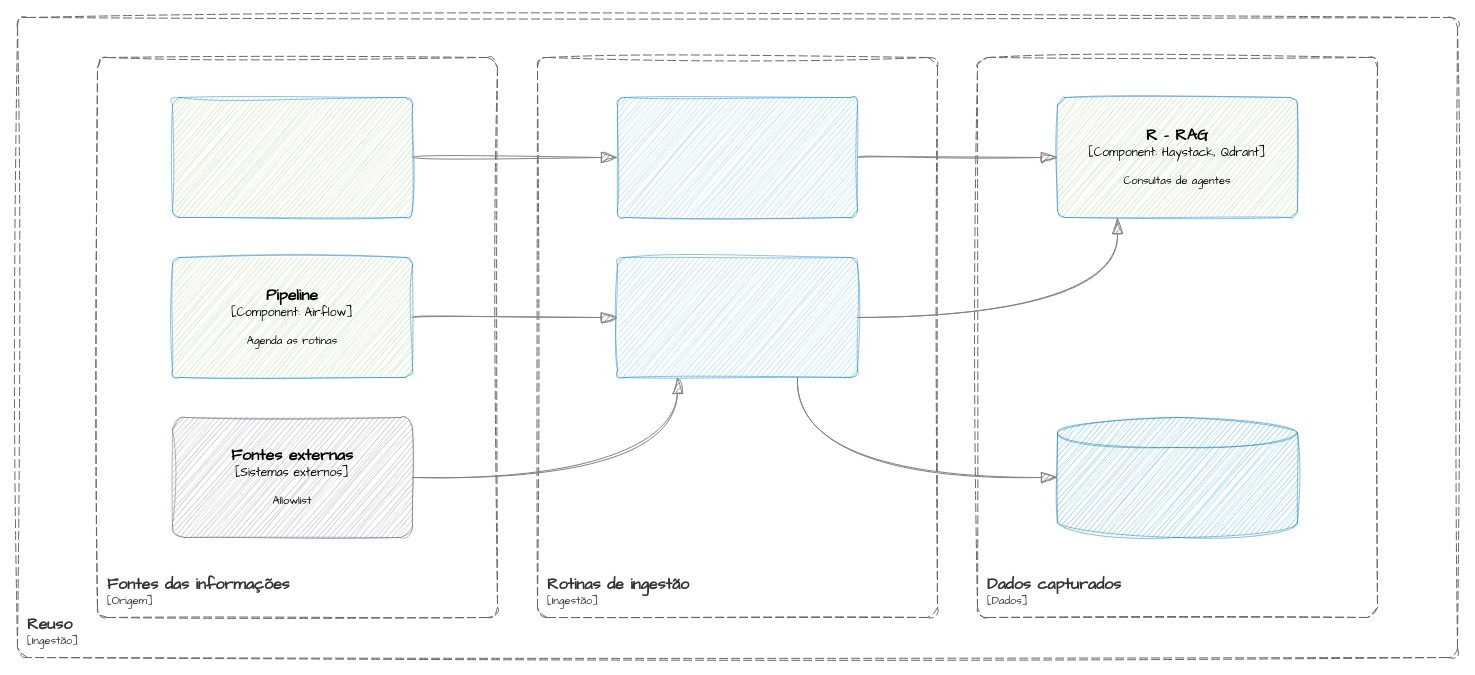
This 1475x675 diagram has some shape labels left out. Here are the shapes that lost their labels. From the top down, the centre of each, then its label:
At pixel 292 157: "Sharepoint [Component: Sharepoint] Normativos e cadeia de valor".
At pixel 737 157: "N - Rotina A [Component: ] Acervo Interno".
At pixel 737 317: "N - Rotina B [Component: python] Benchmark de mercado".
At pixel 1177 477: "N - Storage [Storage Account: Blob] Cópias externas".
